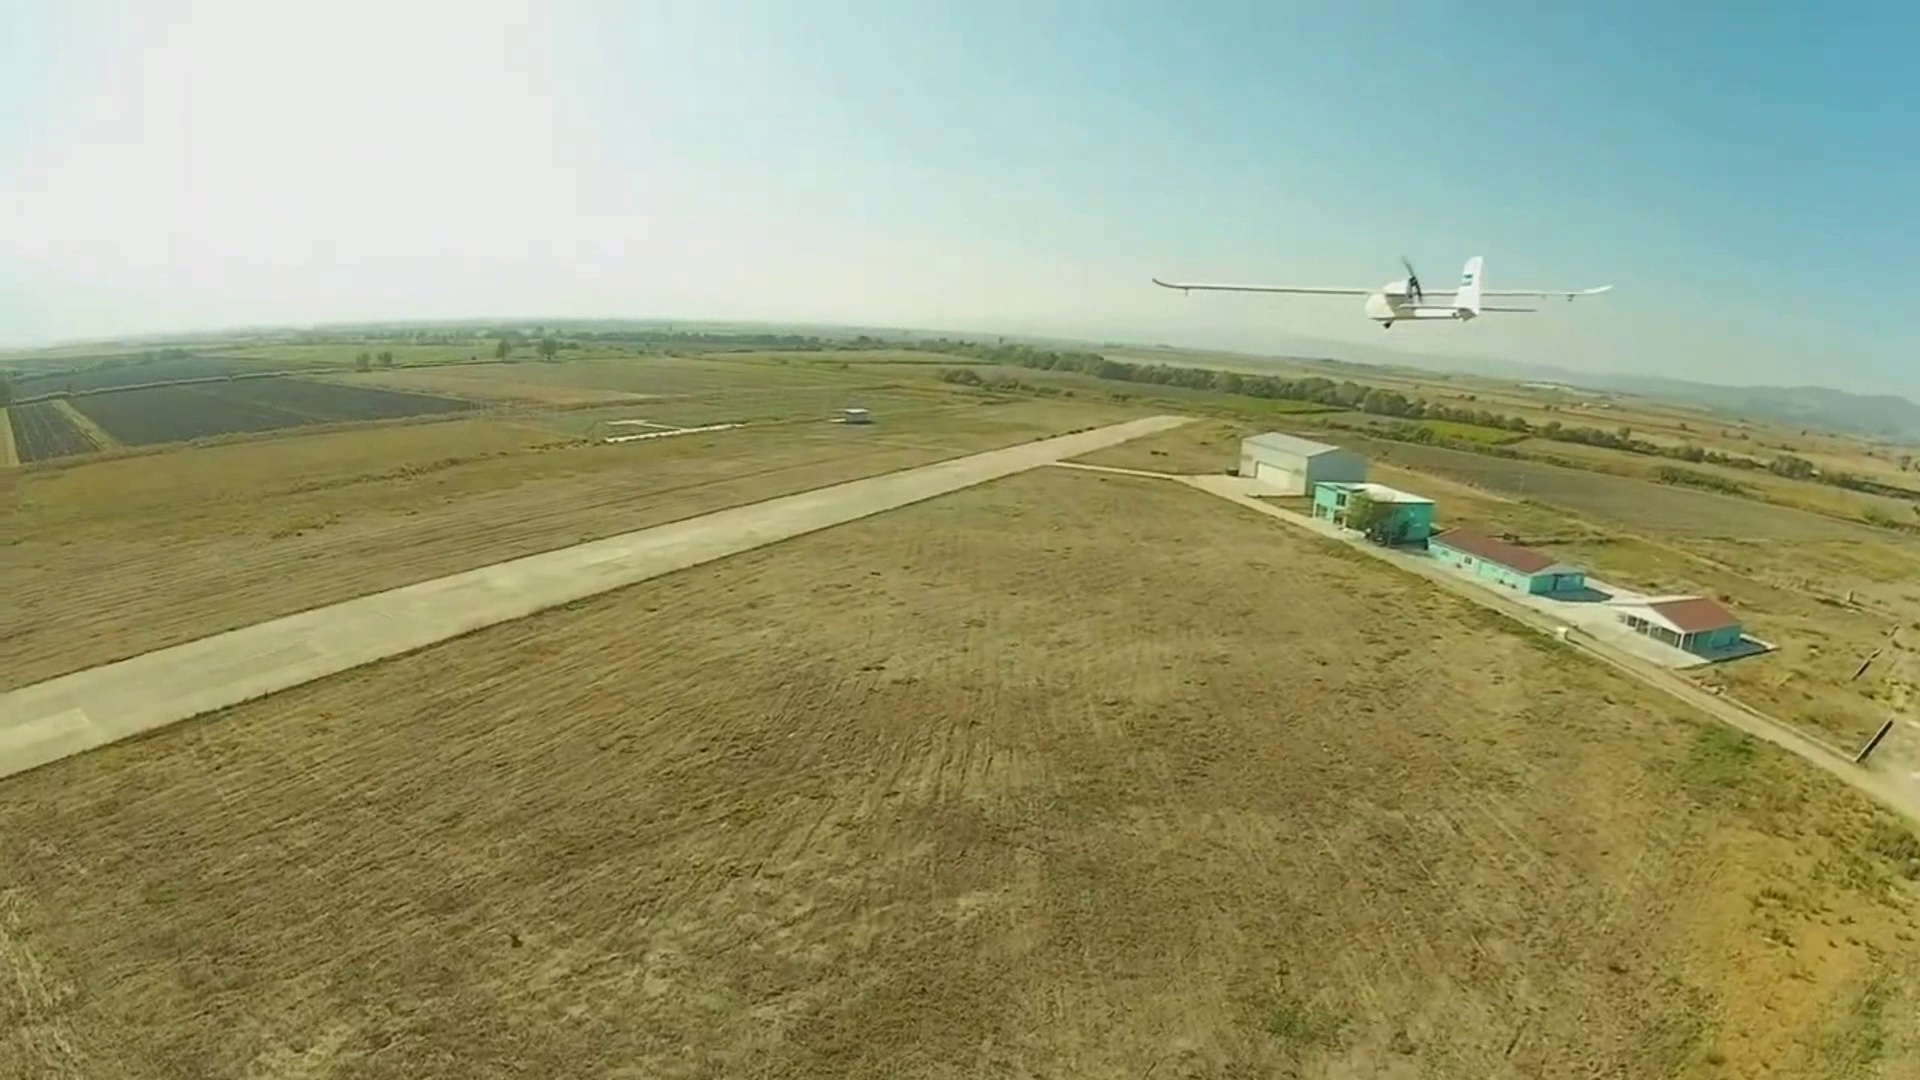airplane: (1153, 251, 1611, 328), (1365, 252, 1615, 324), (1367, 253, 1495, 328)
